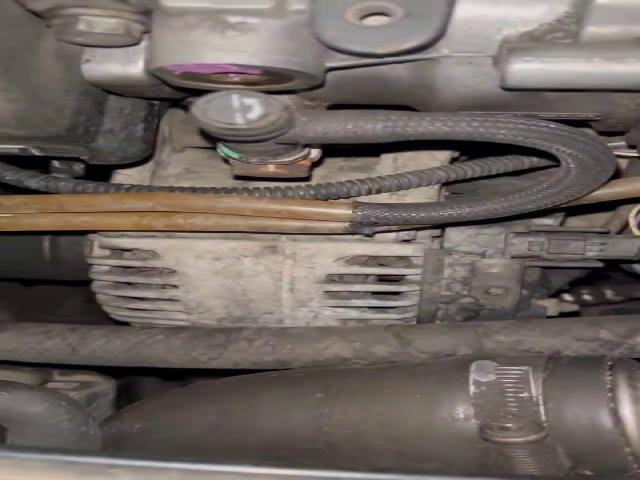alternator: (85, 219, 640, 325)
high_pressure_pump: (19, 0, 638, 132)
